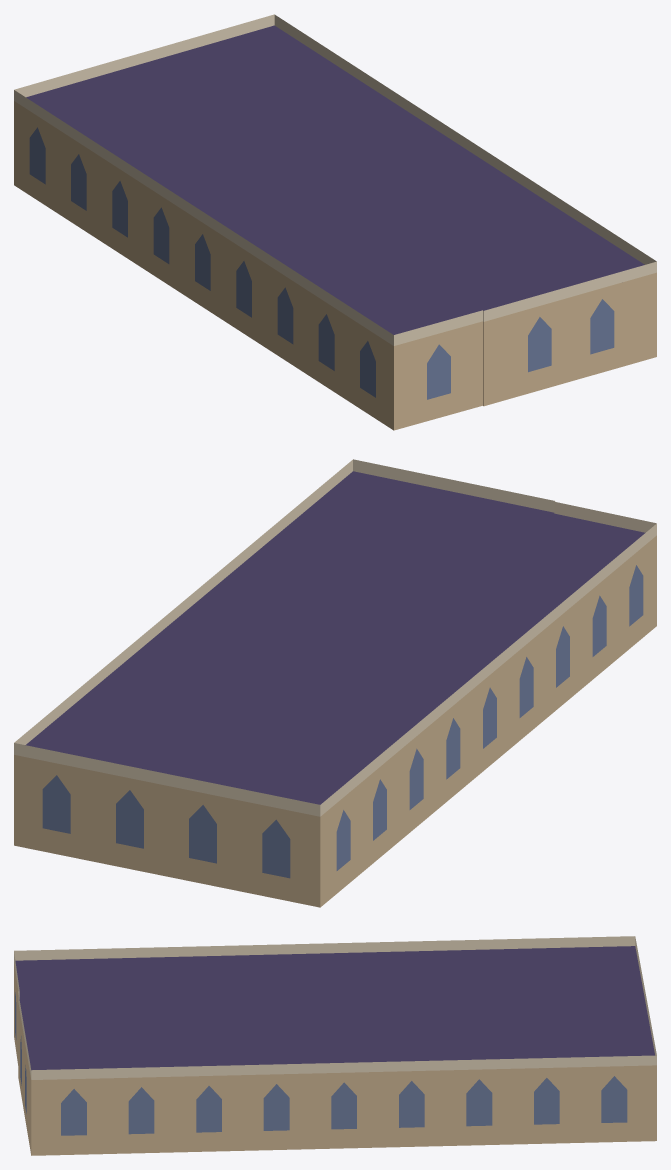
File: b-128-day.glb
3 views of the same model, one above another, from view 1: azimuth 30°, elevation 25°; view 2: azimuth 150°, elevation 25°; view 3: azimuth 270°, elevation 25° (orthographic). The views are drawn at different scales.
Visible parts, largest first — view 1: campus/b-128-day-0; view 2: campus/b-128-day-0; view 3: campus/b-128-day-0.
Part boxes in pixels (<box>): campus/b-128-day-0: <box>14,14,656,430</box>; campus/b-128-day-0: <box>14,459,656,907</box>; campus/b-128-day-0: <box>14,936,656,1155</box>.
Size of the model in its own units: 15.94 by 4.75 by 32.32.
